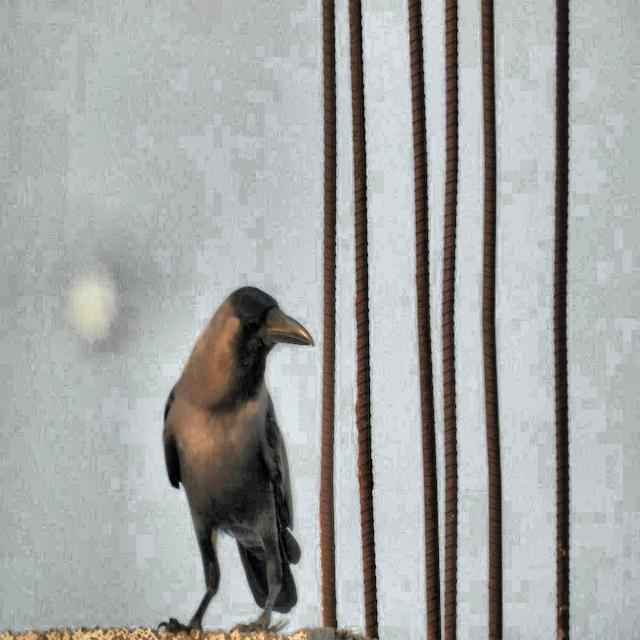crow: (132, 258, 321, 640)
